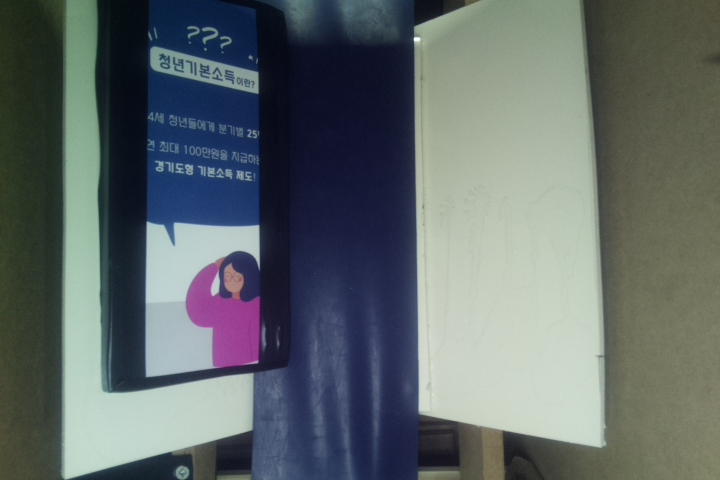book: (102, 1, 293, 398)
